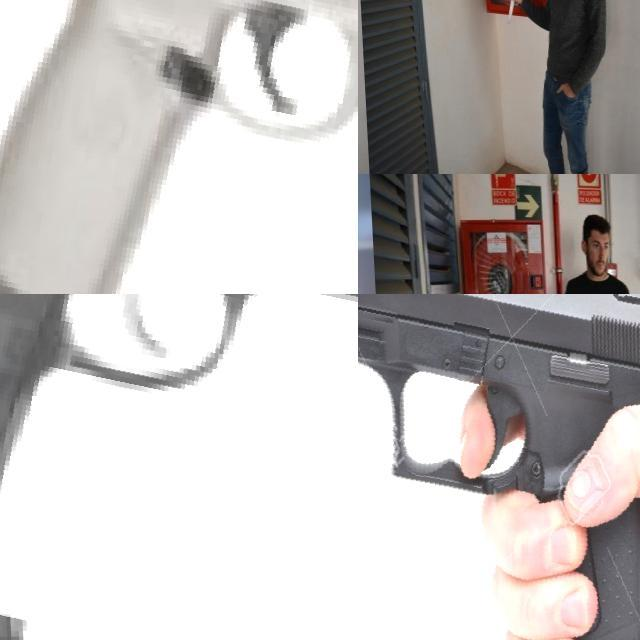-: (502, 0, 518, 27), (358, 0, 369, 15)
gun-knife-thesis - v11 Yolov5 augmented: (0, 294, 358, 640), (0, 0, 358, 294), (358, 294, 640, 640)
